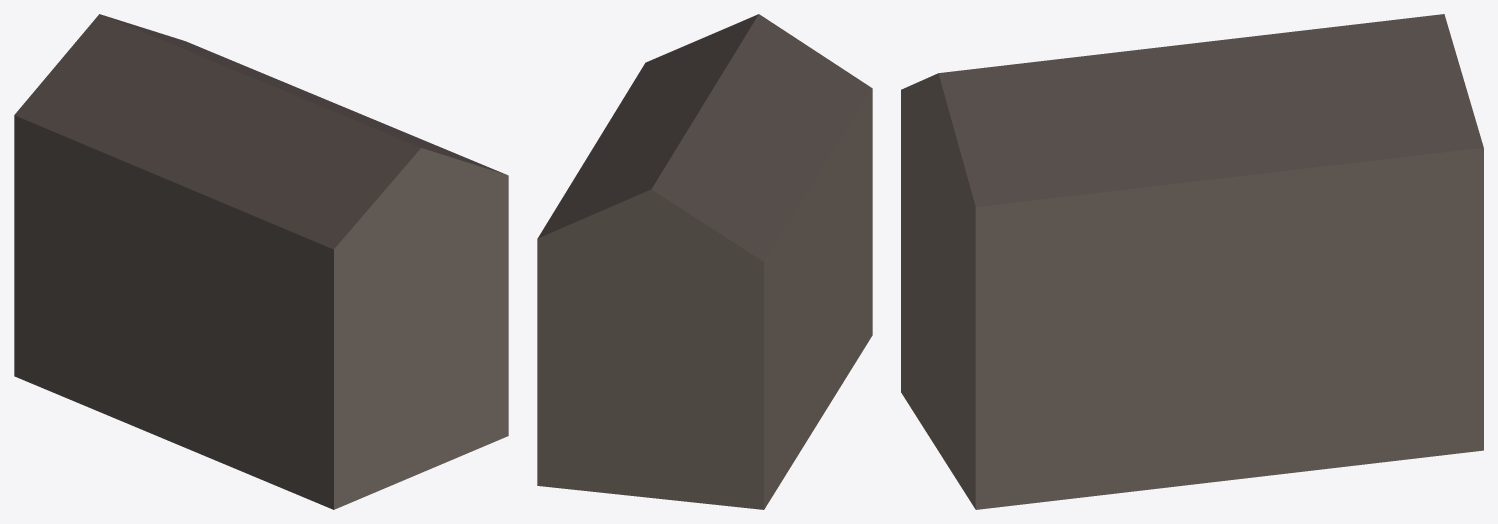
The picture shows the model from 3 angles, left to right: view 1: azimuth 30°, elevation 25°; view 2: azimuth 150°, elevation 25°; view 3: azimuth 270°, elevation 25°; orthographic projection. The views are drawn at different scales.
Visible parts, largest first — view 1: HP-w1197842260; view 2: HP-w1197842260; view 3: HP-w1197842260.
Boxes of the visible parts, <box> form: HP-w1197842260: <box>14,14,508,509</box>; HP-w1197842260: <box>537,14,872,509</box>; HP-w1197842260: <box>901,14,1483,509</box>.
Bounding box in the file's own units: 7.47 × 7.49 × 10.47.
